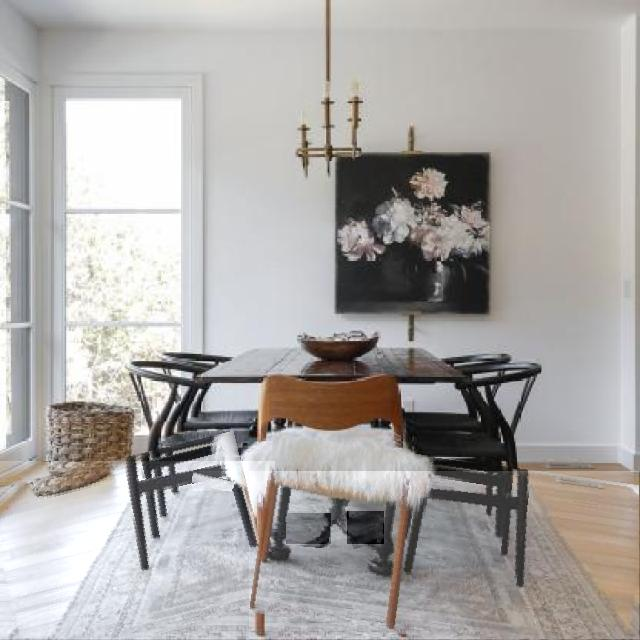floor: (250, 472, 640, 640), (0, 462, 275, 639), (287, 514, 331, 544), (347, 512, 384, 544), (428, 477, 476, 494), (192, 472, 233, 491)
